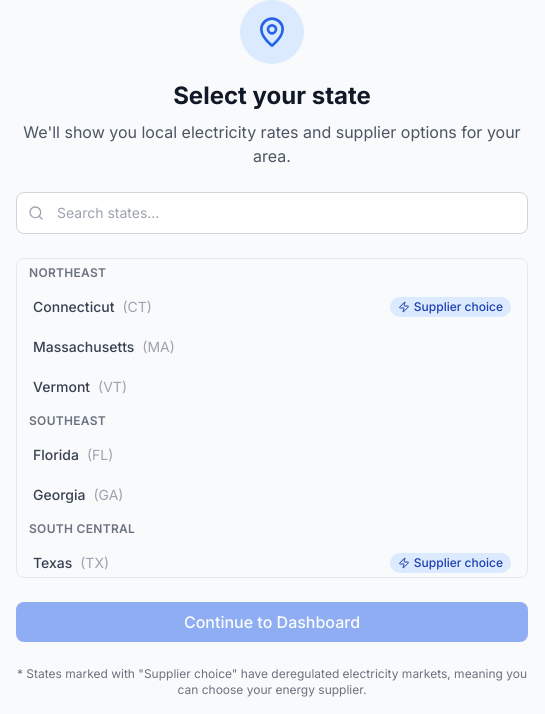
Test: RegionSelector › enables the Continue button after selecting a state
Click the text "Connecticut": (74,307) [33, 297, 114, 317]
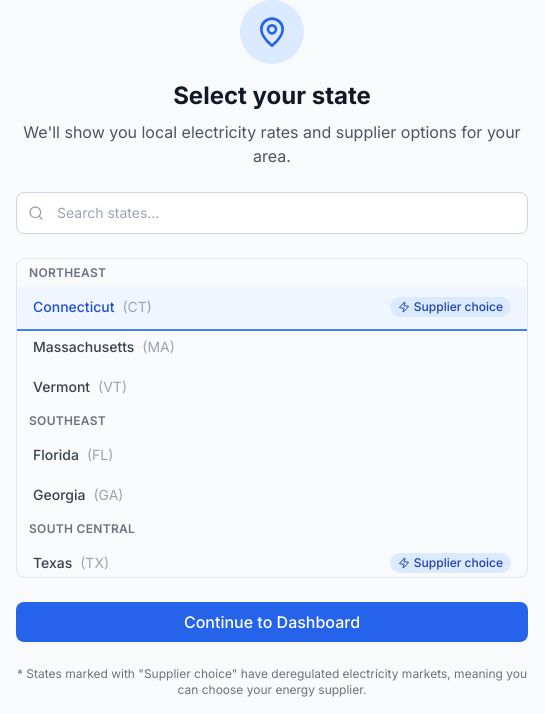
Result: the button "Continue to Dashboard" is enabled at [16, 602, 528, 642]
